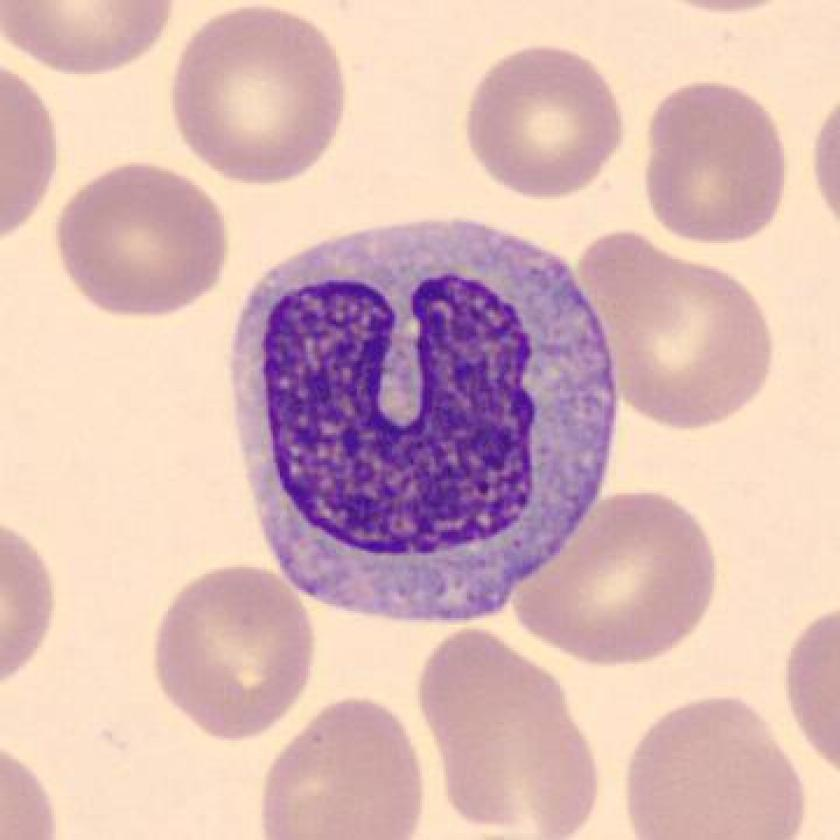monocyte: (209, 193, 638, 642)
